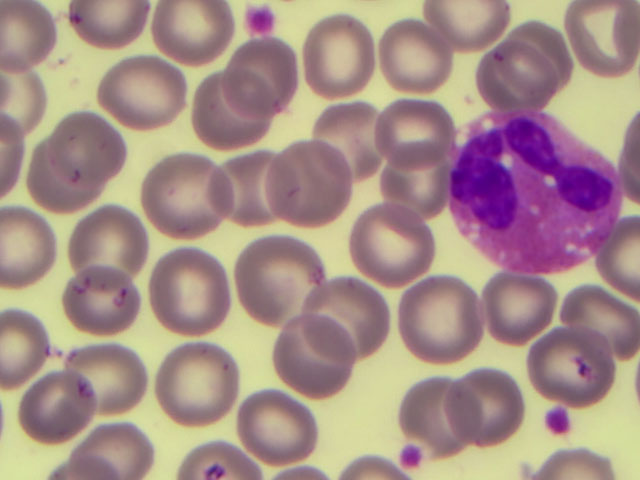Platelets: (244, 9, 276, 35), (547, 408, 573, 433), (395, 445, 421, 467)
RBC: (138, 152, 228, 243), (236, 238, 325, 325), (268, 141, 350, 231), (301, 282, 387, 364), (220, 37, 299, 122), (403, 278, 479, 366), (277, 314, 354, 400), (150, 247, 223, 337), (158, 345, 239, 426), (445, 370, 524, 453), (531, 330, 615, 407), (49, 113, 124, 197), (314, 100, 384, 186), (375, 92, 454, 168), (211, 156, 295, 227), (350, 210, 429, 285), (478, 37, 555, 113), (400, 370, 471, 452), (195, 74, 271, 150), (98, 60, 185, 126), (304, 15, 371, 99), (504, 14, 571, 97), (72, 213, 147, 286), (568, 1, 633, 83), (29, 145, 102, 216), (482, 272, 552, 345), (63, 347, 144, 410), (154, 1, 236, 62), (63, 274, 142, 337), (382, 18, 450, 91), (237, 395, 312, 458), (3, 206, 55, 291), (25, 378, 92, 437), (425, 1, 506, 48), (80, 429, 154, 480), (1, 54, 46, 137), (1, 2, 54, 72), (1, 310, 45, 394), (70, 1, 145, 50), (532, 448, 625, 480), (183, 445, 257, 480), (1, 115, 26, 194)
WBC: (458, 126, 615, 276)
